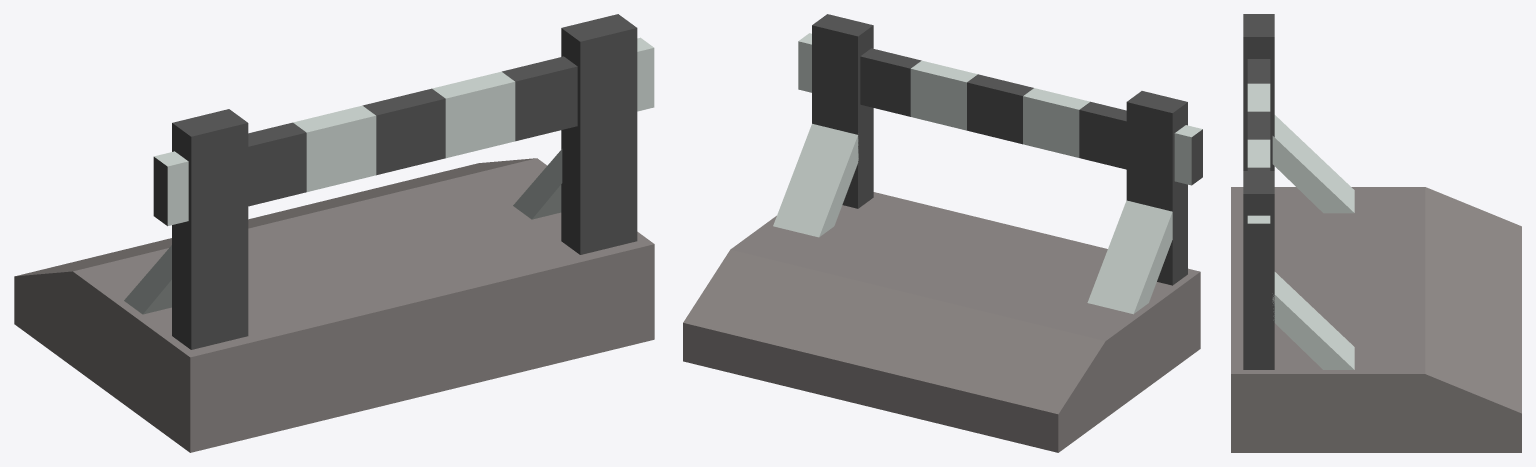
The model's file is SM_Barrier_03.fbx.
The picture shows the model from 3 angles, left to right: view 1: azimuth 30°, elevation 25°; view 2: azimuth 150°, elevation 25°; view 3: azimuth 270°, elevation 25°; orthographic projection. The views are drawn at different scales.
Parts seen in each view (by area): view 1: SM_Barrier_03; view 2: SM_Barrier_03; view 3: SM_Barrier_03.
Boxes of the visible parts, x1=… form: SM_Barrier_03: x1=14, y1=14, x2=654, y2=452; SM_Barrier_03: x1=683, y1=14, x2=1202, y2=452; SM_Barrier_03: x1=1231, y1=14, x2=1521, y2=452.
Bounding box in the file's own units: 267 × 162 × 167.
